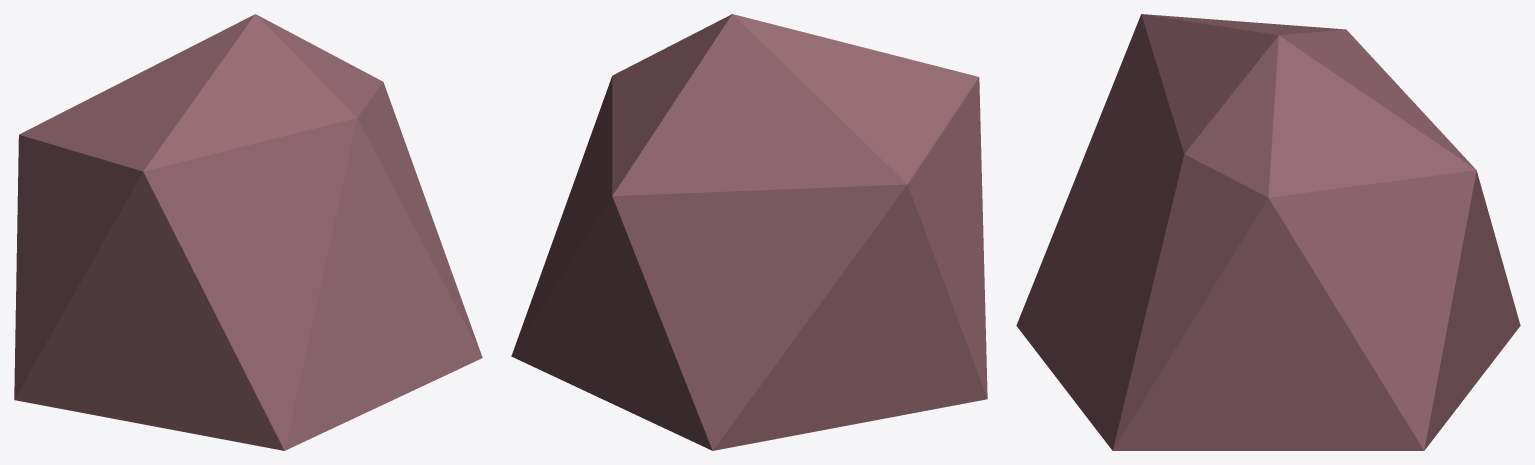
The model's file is rock.fbx.
3 renders of one model, left to right at view 1: azimuth 30°, elevation 25°; view 2: azimuth 150°, elevation 25°; view 3: azimuth 270°, elevation 25°, orthographic. The views are drawn at different scales.
Visible parts, largest first — view 1: Icosphere; view 2: Icosphere; view 3: Icosphere.
Boxes of the visible parts, x1,y1,x2,y2 form: Icosphere: (14, 14, 482, 450); Icosphere: (511, 14, 987, 450); Icosphere: (1016, 14, 1520, 450).
Size of the model in its own units: 162 by 137 by 170.
